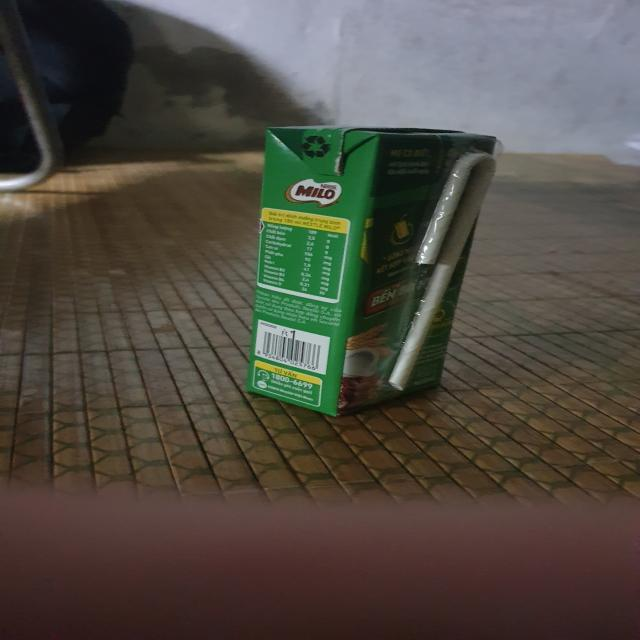Milo: (247, 129, 504, 417)
